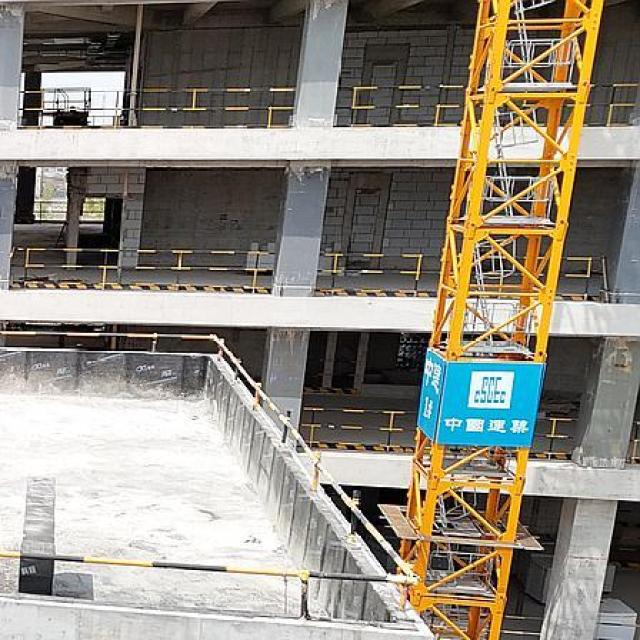edge_guardrail: (0, 328, 423, 622), (316, 252, 610, 302), (333, 81, 640, 126), (10, 247, 276, 294), (16, 87, 298, 129), (298, 407, 418, 452), (530, 416, 579, 459), (500, 614, 544, 637), (33, 200, 68, 220), (625, 420, 640, 465), (598, 621, 640, 628), (83, 201, 106, 213)
